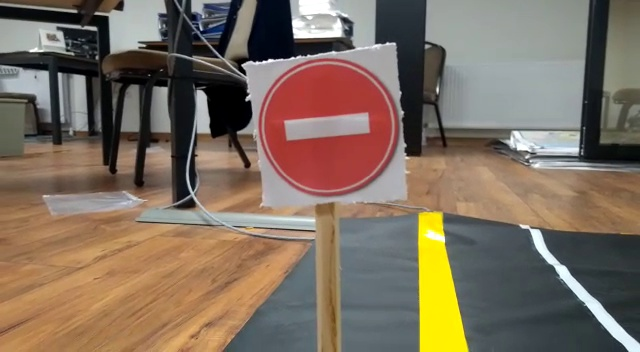girisi_olmayan_yol: (245, 54, 403, 207)
